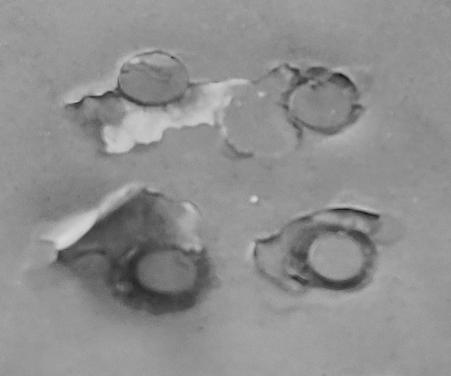paint-off: (1, 1, 451, 376)
